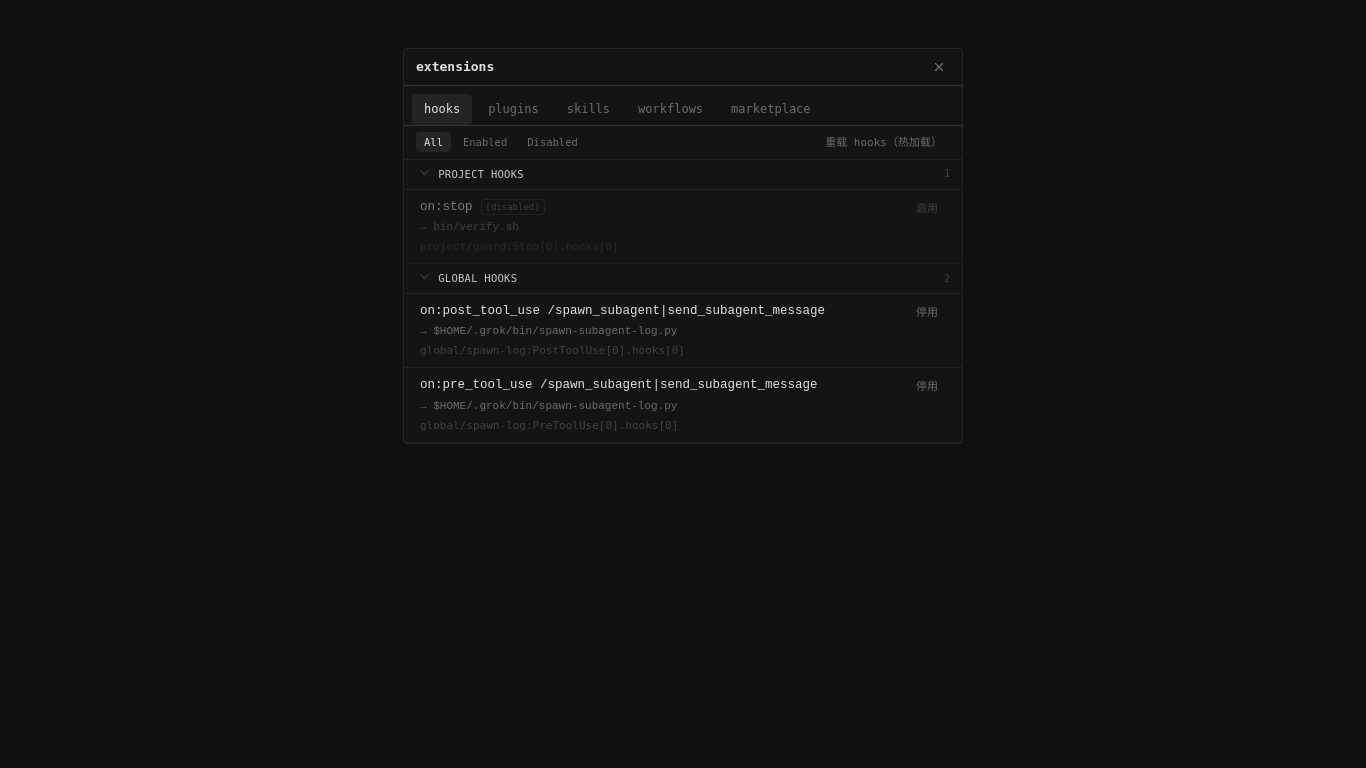
Test case: ExtensionsModal › 状态过滤：Enabled / Disabled（status 未知的条目始终可见）
The image size is (1366, 768).
Expected: the text "on:pre_tool_use /spawn_subagent|send_subagent_message" is shown, [420, 376, 818, 396]
Click the button "Disabled". click: [552, 142]
box: [519, 132, 586, 152]
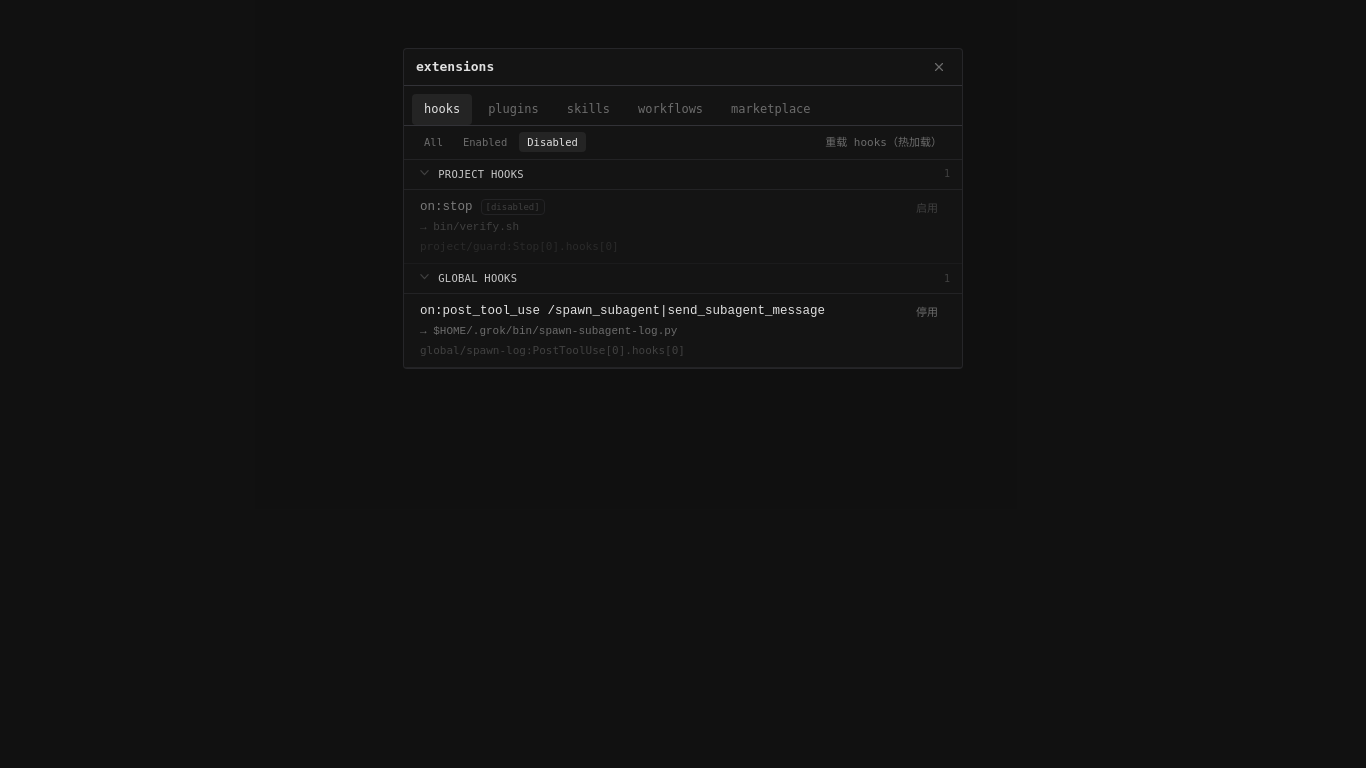
Expected: the text "on:pre_tool_use /spawn_subagent|send_subagent_message" is not shown
Expected: the text "on:post_tool_use /spawn_subagent|send_subagent_message" is shown, [420, 302, 825, 321]
Click the button "All". click: [434, 142]
box: [416, 132, 451, 152]
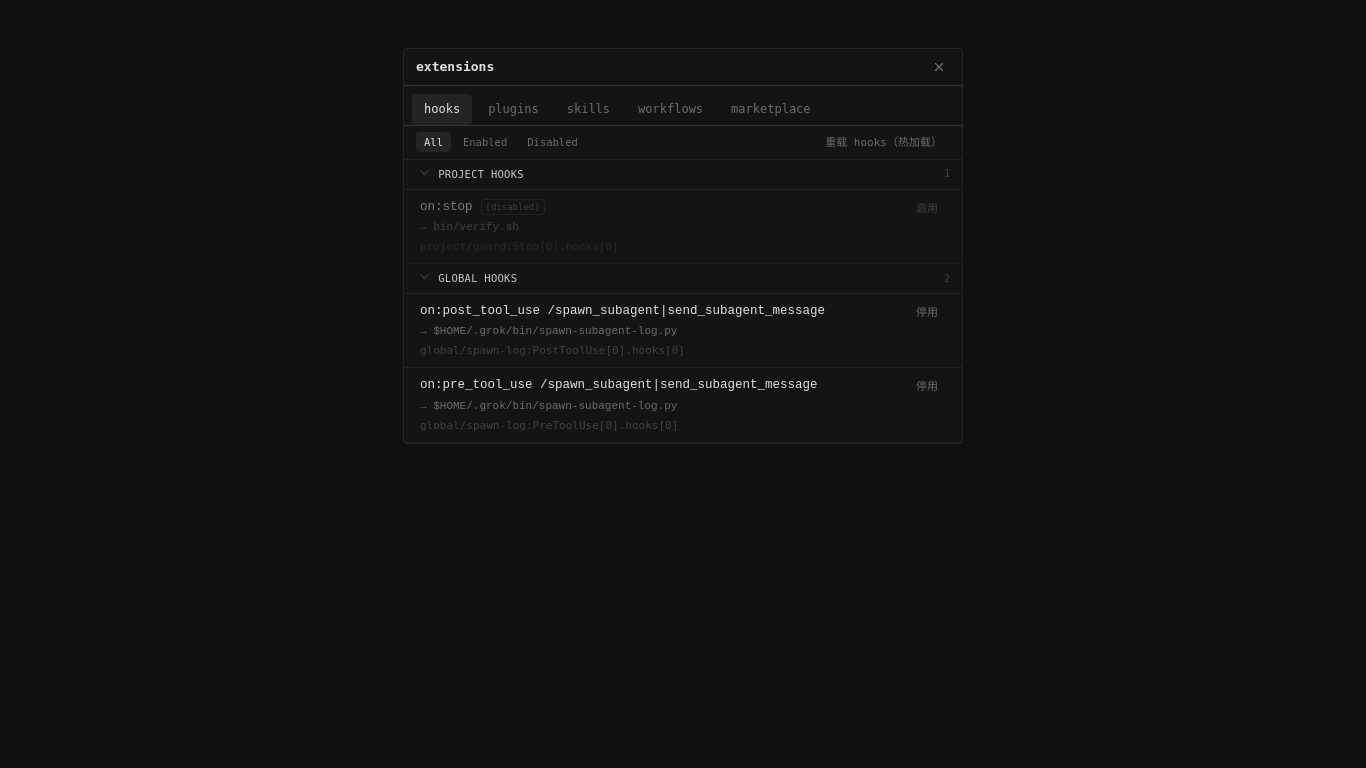
Result: the text "on:pre_tool_use /spawn_subagent|send_subagent_message" is shown at [420, 376, 818, 396]
